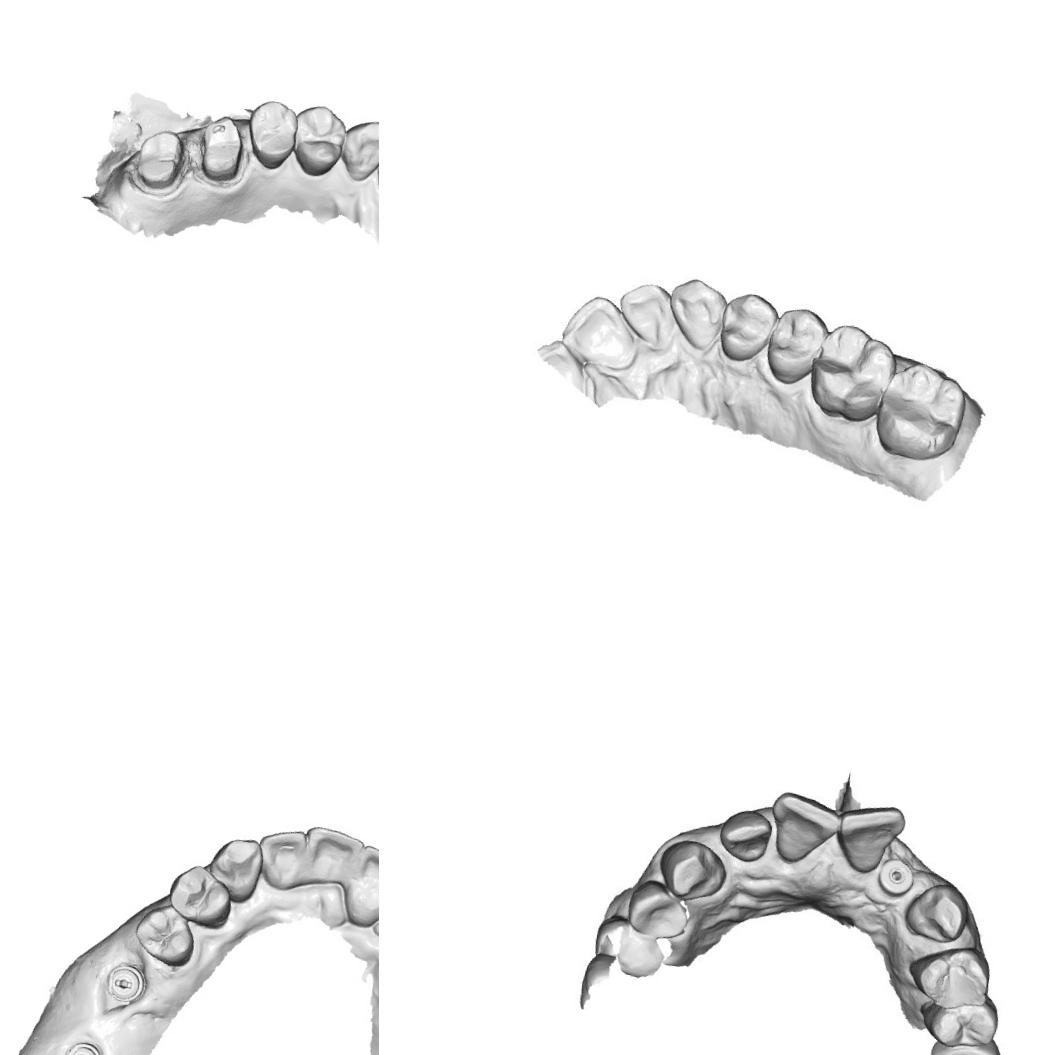canine: (667, 278, 735, 356), (658, 838, 732, 904), (204, 832, 266, 906), (904, 880, 970, 948), (335, 115, 379, 188)
crown: (188, 110, 256, 191), (125, 124, 196, 200)
implant: (876, 854, 918, 901)
implant_minus: (102, 959, 150, 1007), (59, 1037, 109, 1055)
incisor: (553, 286, 646, 380), (610, 276, 685, 360), (771, 790, 845, 868), (296, 822, 367, 899), (835, 800, 904, 876), (254, 822, 310, 893), (338, 841, 379, 934), (722, 808, 775, 864)
molar: (872, 355, 972, 467), (802, 320, 899, 428)
premolar: (909, 945, 993, 1014), (762, 303, 826, 390), (163, 860, 238, 932), (128, 899, 202, 970), (288, 100, 350, 182), (239, 95, 302, 175), (718, 290, 778, 365), (625, 880, 692, 943), (930, 1000, 998, 1053)
